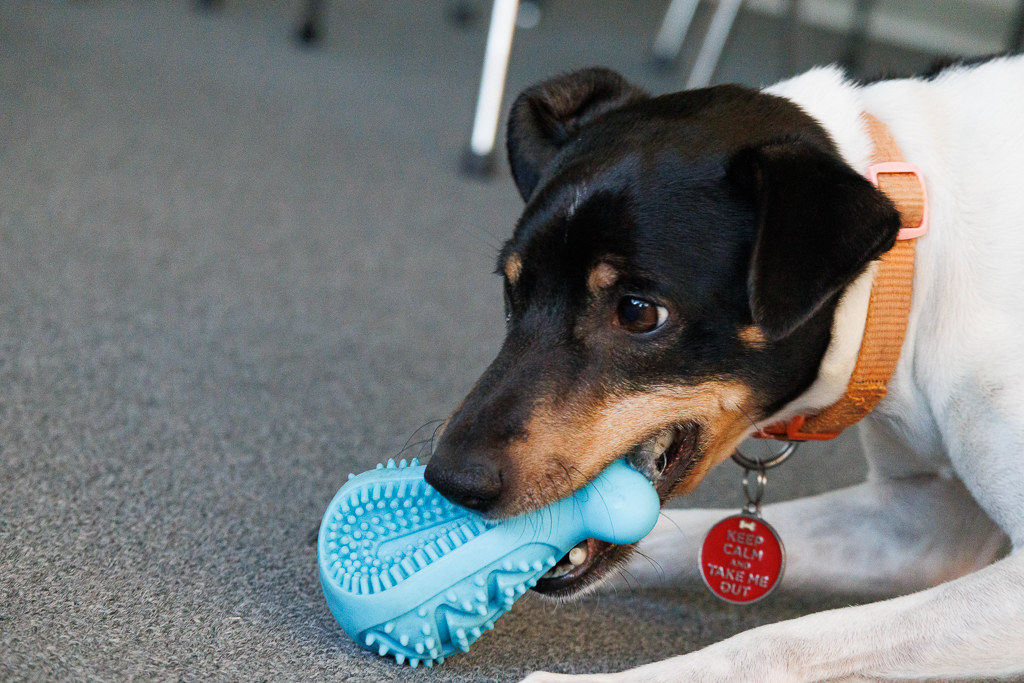Dog: (389, 40, 1024, 683)
